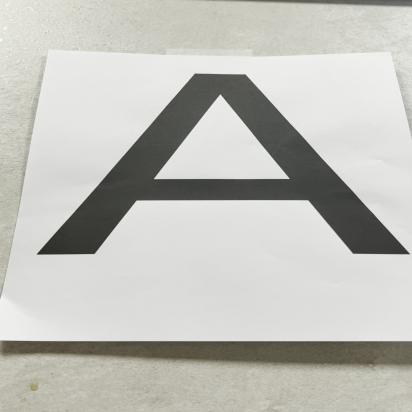seat: (31, 60, 398, 300)
